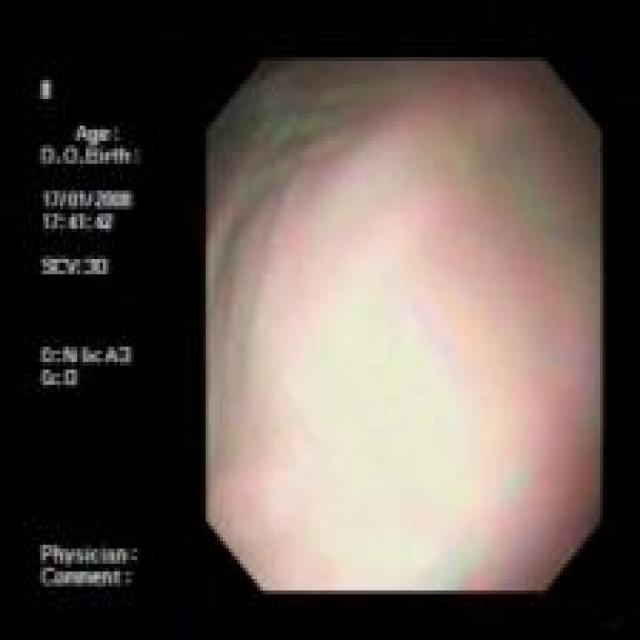color misalignment: (208, 60, 600, 591), (31, 71, 155, 598)
saturation: (252, 211, 504, 580)
